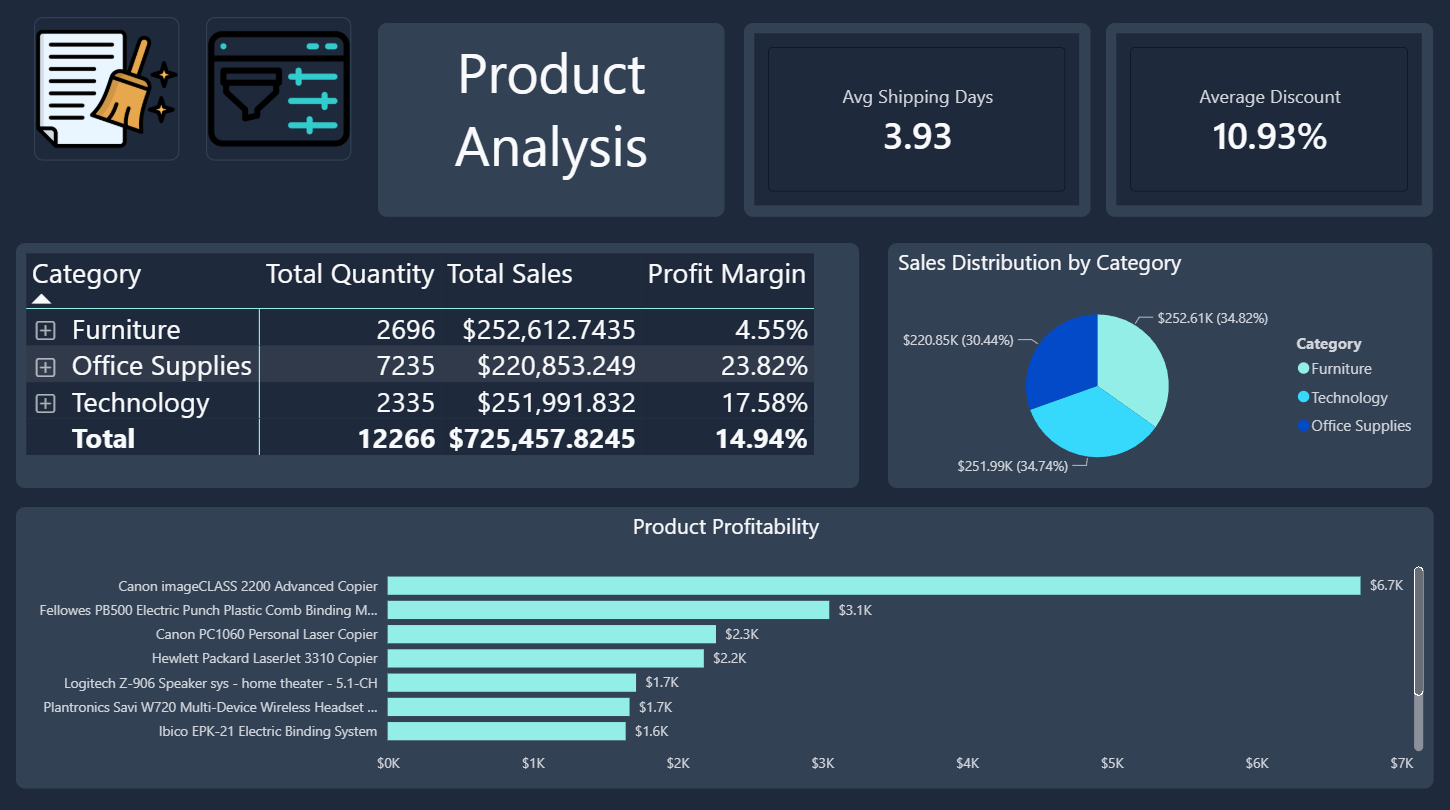

The page's visual inventory and layout, read from the dashboard file:
{"tool":"powerbi","page":{"name":"product analysis","canvas":[1280,720],"ordinal":1},"visuals":[{"type":"clusteredBarChart","title":"Product Profitability","fields":{"Category":["Orders.Product Name"],"Y":["Sum(Orders.Profit)"]},"box":[18.9,447.2,1243.4,247.2],"z":0},{"type":"pivotTable","fields":{"Rows":["Orders.Category","Orders.Sub-Category","Orders.Product Name"],"Values":["Sum(Orders.Quantity)","Orders.Total Sales","Orders.Profit Margin"]},"box":[18.9,215.1,739.6,215.1],"z":1000},{"type":"pieChart","title":"Sales Distribution by Category","fields":{"Category":["Orders.Category"],"Y":["Sum(Orders.Sales)"]},"box":[784.9,215.1,477.4,215.1],"z":2000},{"type":"cardVisual","fields":{"Data":["Orders.Avg Shipping Days"]},"box":[658.5,22.6,303.8,169.8],"z":4000},{"type":"cardVisual","fields":{"Data":["Orders.Average Discount"]},"box":[975.5,22.6,286.8,169.8],"z":5000},{"type":"textbox","box":[337.3,22,303.8,169.8],"z":6000},{"type":"image","box":[35.6,16.9,127.7,126.2],"z":9000},{"type":"image","title":"Filters","box":[186.4,16.9,127.7,126.2],"z":10000}]}

Visuals, with their boxes in screenshot pixels (x1, y1, x2, y2), scaled from the page's 1280x720 canvas onto the 1450x810 screenshot:
"Product Profitability" clusteredBarChart: [21, 503, 1430, 781]
pivotTable - Orders.Category x Orders.Sub-Category: [21, 242, 859, 484]
"Sales Distribution by Category" pieChart: [889, 242, 1430, 484]
cardVisual - Orders.Avg Shipping Days: [746, 25, 1090, 216]
cardVisual - Orders.Average Discount: [1105, 25, 1430, 216]
textbox: [382, 25, 726, 216]
image: [40, 19, 185, 161]
"Filters" image: [211, 19, 356, 161]
